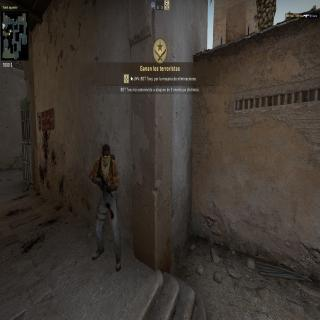T-Head: (100, 142, 112, 168)
